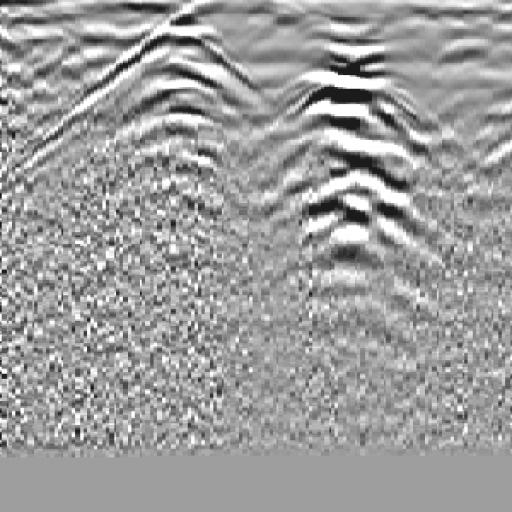metalic: (273, 30, 438, 356)
